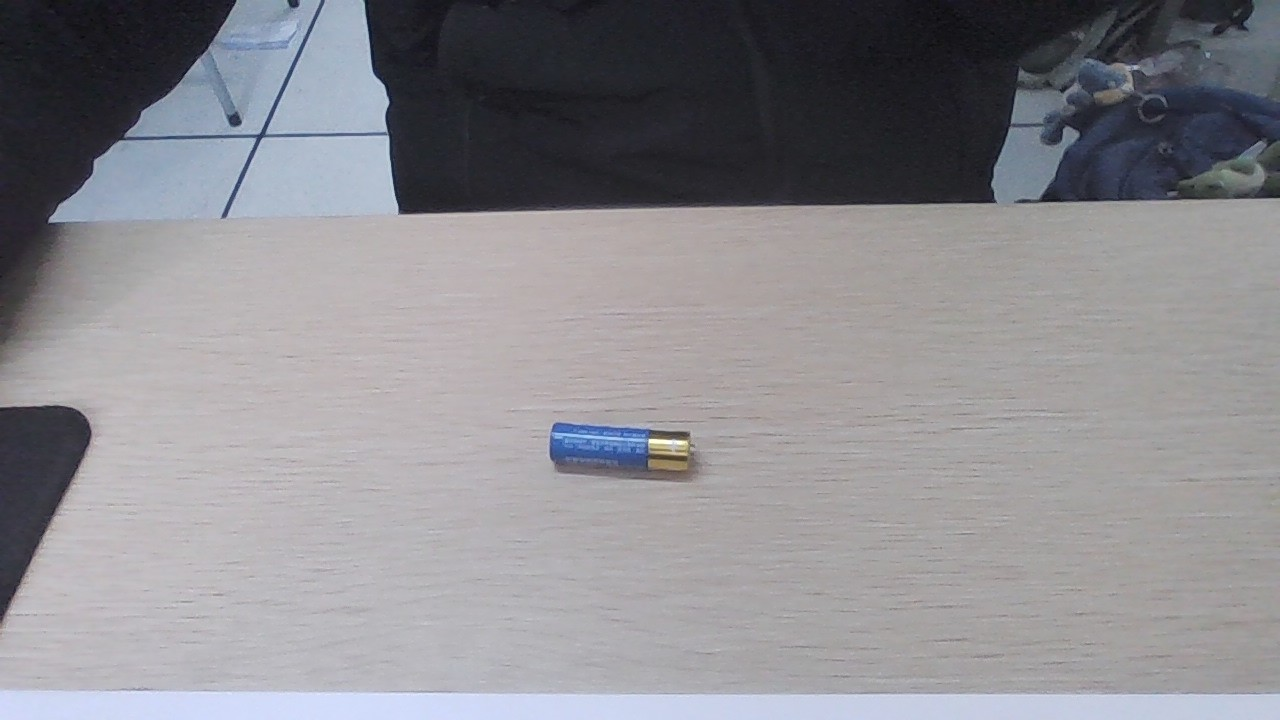YH-battery: (551, 420, 695, 484)
